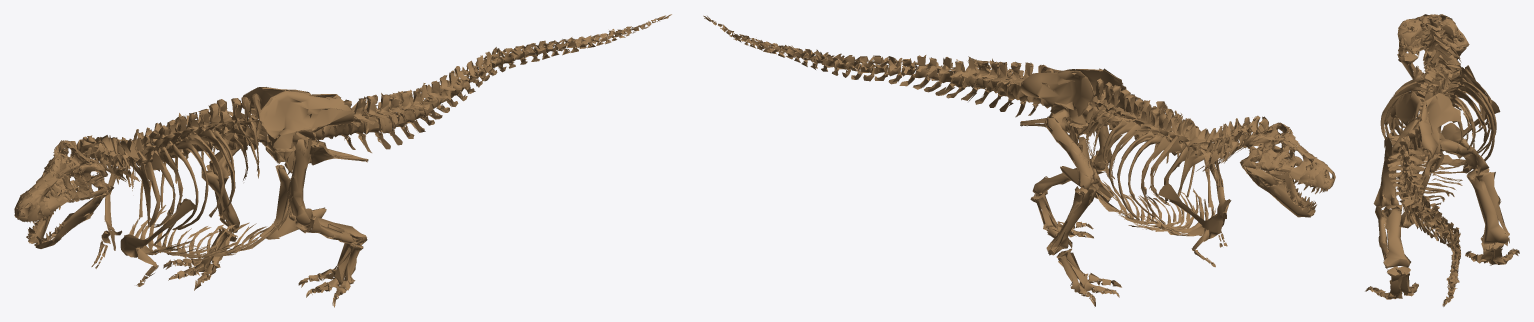
Rendered from sue.glb.
3 renders of one model, left to right at view 1: azimuth 30°, elevation 25°; view 2: azimuth 150°, elevation 25°; view 3: azimuth 270°, elevation 25°, orthographic. The views are drawn at different scales.
Parts seen in each view (by area): view 1: Object_3, Object_11, Object_6, Object_9, Object_7, Object_10, Object_5, Object_4, Object_8, Object_2; view 2: Object_3, Object_11, Object_4, Object_10, Object_7, Object_9, Object_6, Object_8, Object_5, Object_2; view 3: Object_3, Object_11, Object_5, Object_4, Object_6, Object_10, Object_7, Object_8, Object_9, Object_2.
Boxes of the visible parts, x1,y1,x2,y2 form: Object_3: [26, 64, 506, 307]; Object_11: [129, 21, 651, 255]; Object_6: [152, 14, 671, 255]; Object_9: [14, 140, 107, 223]; Object_7: [71, 40, 559, 258]; Object_10: [150, 66, 475, 249]; Object_5: [75, 17, 668, 278]; Object_4: [91, 47, 502, 290]; Object_8: [148, 39, 565, 251]; Object_2: [146, 124, 234, 230]; Object_3: [842, 69, 1316, 289]; Object_11: [718, 23, 1215, 236]; Object_4: [846, 56, 1245, 306]; Object_10: [888, 55, 1198, 228]; Object_7: [794, 48, 1270, 227]; Object_9: [1240, 122, 1335, 194]; Object_6: [703, 15, 1212, 230]; Object_8: [786, 45, 1185, 229]; Object_5: [704, 18, 1268, 267]; Object_2: [1103, 107, 1194, 220]; Object_3: [1365, 41, 1509, 299]; Object_11: [1387, 91, 1465, 302]; Object_5: [1373, 14, 1474, 208]; Object_4: [1389, 30, 1519, 264]; Object_6: [1384, 65, 1462, 306]; Object_10: [1388, 159, 1443, 240]; Object_7: [1396, 55, 1489, 269]; Object_8: [1382, 72, 1494, 273]; Object_9: [1397, 14, 1469, 57]; Object_2: [1388, 74, 1496, 161].
Bounding box in the file's own units: 13.26 × 3.86 × 2.91.
